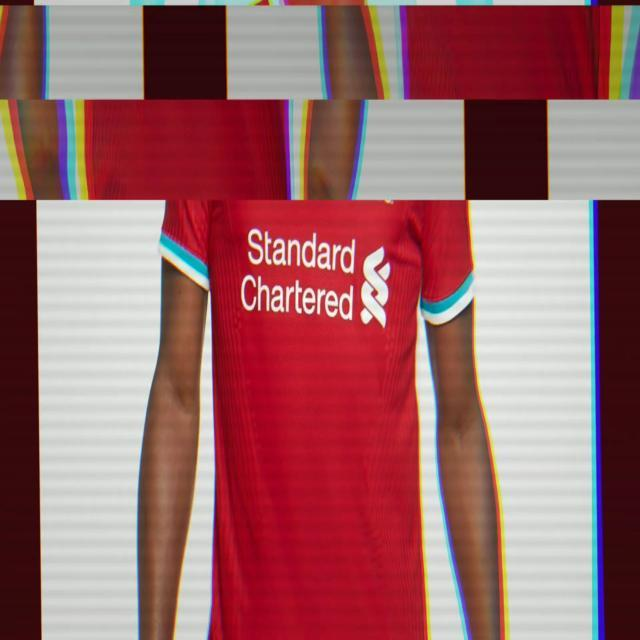Standard Chartered: (241, 225, 388, 326)
